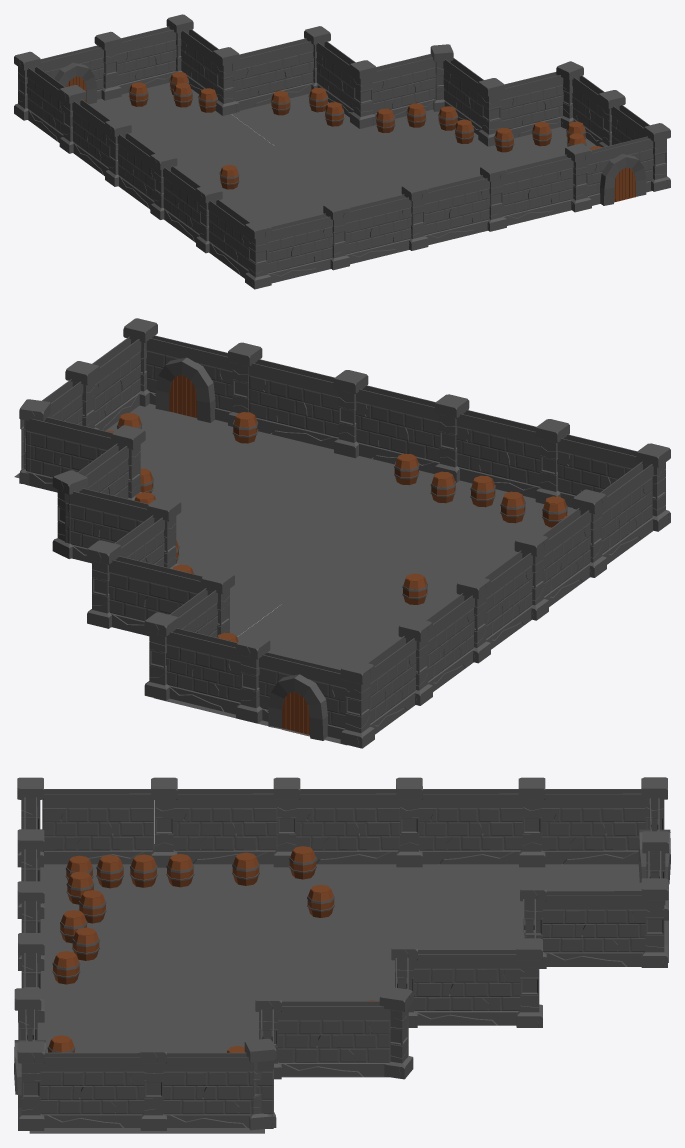
The model's file is room6.fbx.
3 views of the same model, one above another, from view 1: azimuth 30°, elevation 25°; view 2: azimuth 150°, elevation 25°; view 3: azimuth 270°, elevation 25° (orthographic). The views are drawn at different scales.
Parts seen in each view (by area): view 1: Plane.006, wall.029, wall.028, pillar.038, pillar.037, wall.035, gate--NORMALS-OK.008, wall.031, wall.033, wall.037, wall.030, gate--NORMALS-OK.007 (+24 smaller); view 2: Plane.006, wall.029, wall.028, pillar.037, pillar.038, gate--NORMALS-OK.007, gate--NORMALS-OK.008, wall.037, wall.035, wall.030, wall.031, wall.033 (+20 smaller); view 3: Plane.006, wall.028, wall.030, pillar.037, wall.032, wall.034, wall.036, pillar.038, pillar.039, pillar.042, pillar.046, pillar.044 (+19 smaller).
Part boxes in pixels (left/top/right/bottom): Plane.006: left=89, top=82, right=596, bottom=226; wall.029: left=267, top=154, right=573, bottom=283; wall.028: left=27, top=66, right=250, bottom=278; pillar.038: left=244, top=163, right=506, bottom=289; pillar.037: left=14, top=51, right=222, bottom=253; wall.035: left=232, top=38, right=313, bottom=110; gate--NORMALS-OK.008: left=588, top=136, right=653, bottom=205; wall.031: left=501, top=72, right=563, bottom=138; wall.033: left=371, top=54, right=436, bottom=118; wall.037: left=117, top=26, right=176, bottom=94; wall.030: left=572, top=75, right=649, bottom=146; gate--NORMALS-OK.007: left=38, top=45, right=104, bottom=104; Plane.006: left=14, top=404, right=575, bottom=745; wall.029: left=248, top=359, right=639, bottom=507; wall.028: left=368, top=461, right=653, bottom=734; pillar.037: left=340, top=489, right=607, bottom=748; pillar.038: left=333, top=370, right=670, bottom=531; gate--NORMALS-OK.007: left=258, top=652, right=345, bottom=740; gate--NORMALS-OK.008: left=146, top=335, right=232, bottom=422; wall.037: left=165, top=628, right=240, bottom=714; wall.035: left=108, top=555, right=203, bottom=636; wall.030: left=20, top=336, right=141, bottom=472; wall.031: left=25, top=417, right=114, bottom=492; wall.033: left=64, top=488, right=149, bottom=563; Plane.006: left=29, top=863, right=668, bottom=1133; wall.028: left=42, top=789, right=645, bottom=864; wall.030: left=40, top=1052, right=273, bottom=1128; pillar.037: left=151, top=777, right=667, bottom=867; wall.032: left=278, top=1001, right=390, bottom=1077; wall.034: left=414, top=949, right=520, bottom=1025; wall.036: left=543, top=890, right=645, bottom=966; pillar.038: left=17, top=777, right=44, bottom=1022; pillar.039: left=17, top=1041, right=166, bottom=1130; pillar.042: left=379, top=987, right=413, bottom=1079; pillar.046: left=641, top=878, right=668, bottom=967; pillar.044: left=516, top=938, right=542, bottom=1027.
Size of the model in its own units: 2608 by 354 by 2609.
